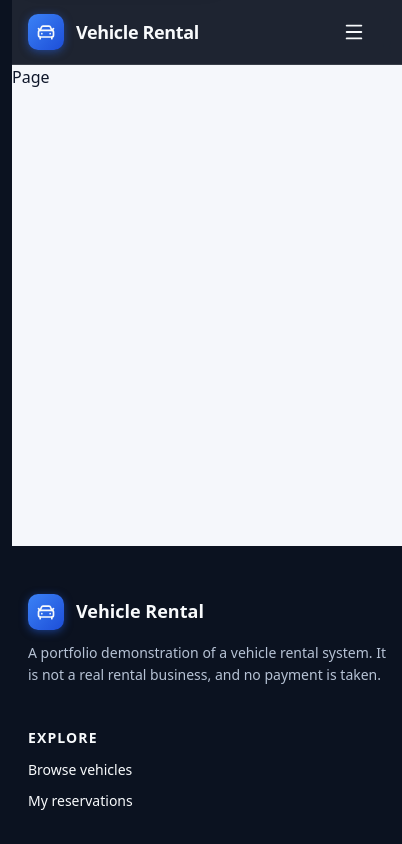
Test: navigation › opens and closes the mobile menu with correct state for assistive technology
This screenshot has width=402, height=844.
Click the button named "Open menu" at (354, 32), box x1=322 y1=8 x2=386 y2=56
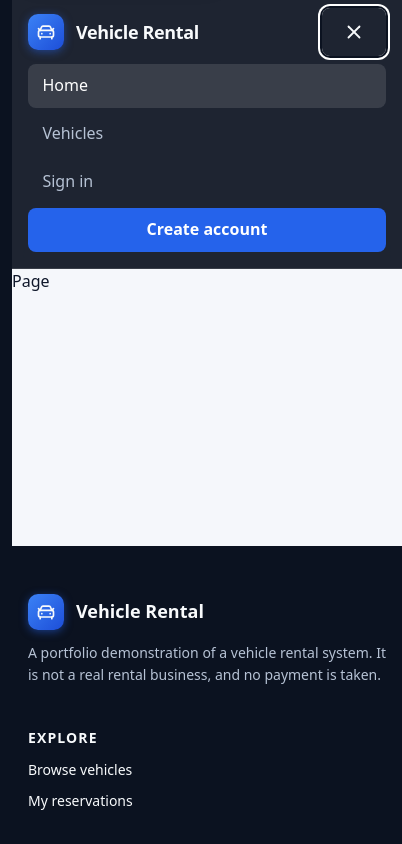
Expected: the button named "Close menu" is expanded, x1=322 y1=8 x2=386 y2=56
Click the link "Vehicles" at (73, 133), box x1=42 y1=122 x2=103 y2=144
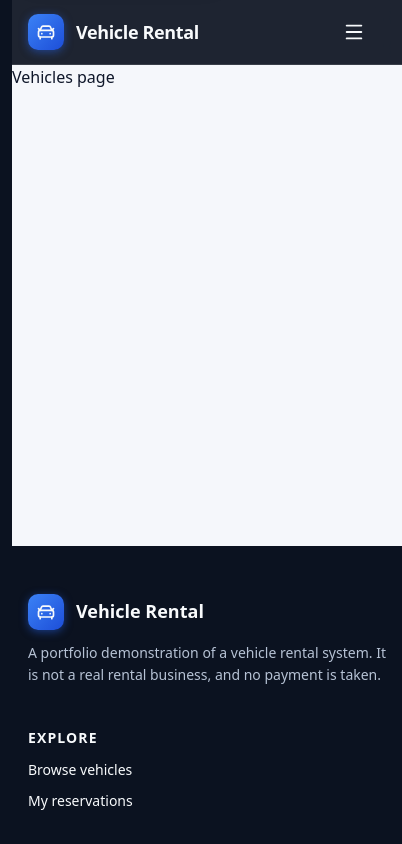
Expected: the button named "Open menu" is collapsed, x1=322 y1=8 x2=386 y2=56
